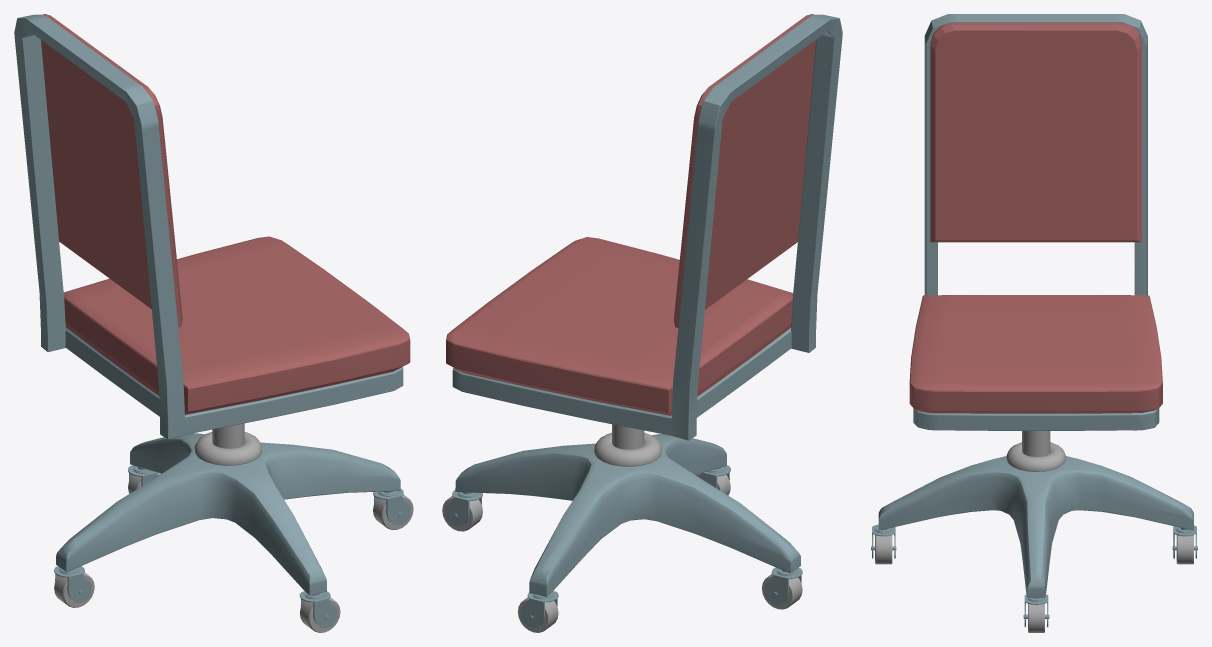
Rendered from RE_Chair_LOW.fbx.
3 views of the same model, side by side, from view 1: azimuth 30°, elevation 25°; view 2: azimuth 150°, elevation 25°; view 3: azimuth 270°, elevation 25° (orthographic). The views are drawn at different scales.
Parts seen in each view (by area): view 1: Base, Claw, Back, Wheel_Attatchment (×3), Wheel (×3), Joint, Leg; view 2: Base, Claw, Back, Wheel_Attatchment (×3), Joint, Wheel (×2), Leg; view 3: Back, Base, Claw, Wheel (×3), Joint, Leg.
Part boxes in pixels (x1,y1,x2,y2): Base: [14, 14, 410, 439]; Claw: [56, 433, 400, 595]; Back: [41, 14, 182, 327]; Wheel_Attatchment (×3): [54, 489, 410, 627]; Wheel (×3): [54, 494, 413, 632]; Joint: [194, 432, 261, 465]; Leg: [212, 423, 244, 448]; Base: [446, 14, 842, 440]; Claw: [455, 434, 800, 596]; Back: [673, 14, 815, 327]; Wheel_Attatchment (×3): [445, 490, 802, 627]; Joint: [594, 432, 661, 466]; Wheel (×2): [442, 496, 802, 609]; Leg: [612, 424, 644, 449]; Back: [930, 23, 1141, 242]; Base: [909, 14, 1162, 430]; Claw: [878, 456, 1193, 597]; Wheel (×3): [875, 535, 1193, 632]; Joint: [1006, 442, 1065, 471]; Leg: [1022, 431, 1050, 456].
Bounding box in the file's own units: 1.45 × 2.15 × 1.32.
